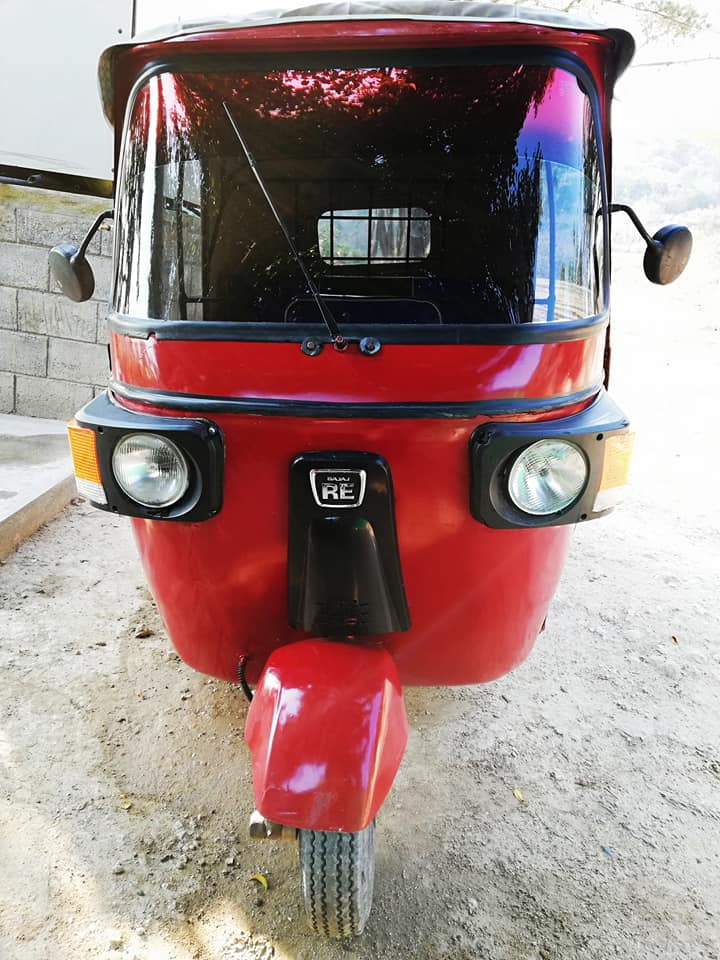mototaxi: (67, 4, 647, 945)
